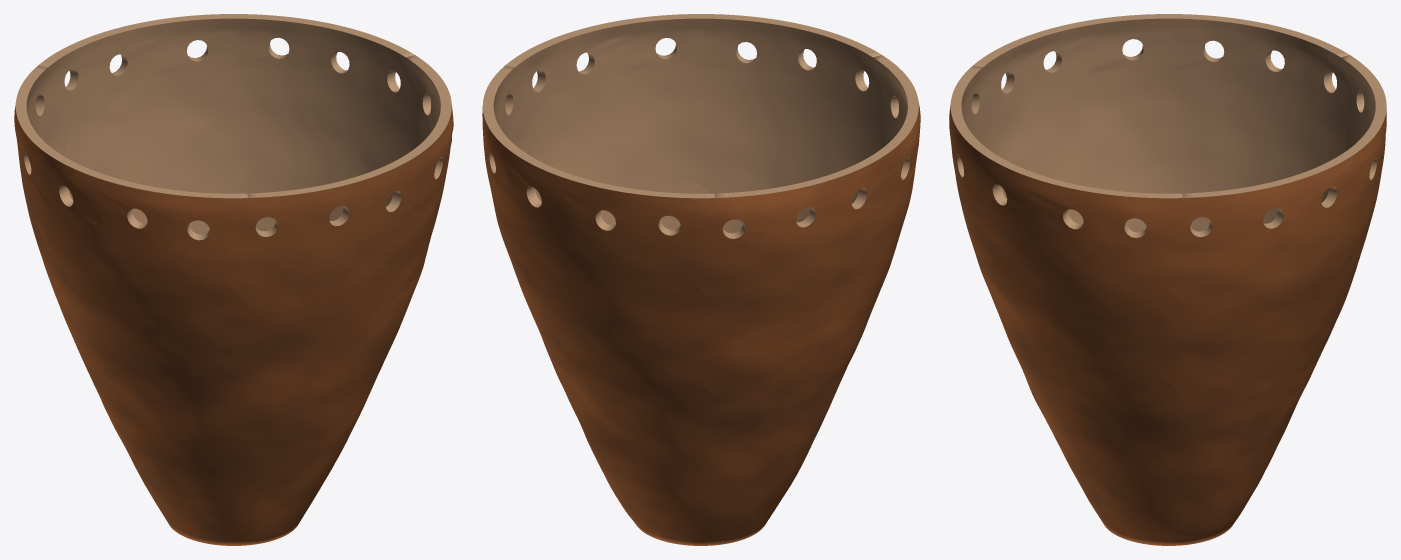
File: pottery.glb
3 views of the same model, side by side, from view 1: azimuth 30°, elevation 25°; view 2: azimuth 150°, elevation 25°; view 3: azimuth 270°, elevation 25° (orthographic).
Visible parts, largest first — view 1: Pottery_Piece_06, Pottery_Piece_05, Pottery_Piece_04, Pottery_Piece_01, Pottery_Piece_02, Pottery_Base, Pottery_Piece_03; view 2: Pottery_Piece_04, Pottery_Piece_06, Pottery_Piece_05, Pottery_Piece_03, Pottery_Piece_02, Pottery_Base, Pottery_Piece_01; view 3: Pottery_Piece_05, Pottery_Piece_04, Pottery_Piece_06, Pottery_Piece_03, Pottery_Piece_01, Pottery_Base, Pottery_Piece_02.
Part boxes in pixels (x1,y1,x2,y2): Pottery_Piece_06: (38,14,414,207); Pottery_Piece_05: (14,65,248,355); Pottery_Piece_04: (223,55,453,349); Pottery_Piece_01: (224,278,419,470); Pottery_Piece_02: (45,267,244,472); Pottery_Base: (120,434,347,545); Pottery_Piece_03: (132,177,343,234); Pottery_Piece_04: (505,14,881,210); Pottery_Piece_06: (482,65,715,349); Pottery_Piece_05: (690,55,920,352); Pottery_Piece_03: (519,279,711,477); Pottery_Piece_02: (691,282,883,477); Pottery_Base: (581,423,821,545); Pottery_Piece_01: (600,181,809,233); Pottery_Piece_05: (973,14,1349,208); Pottery_Piece_04: (949,65,1183,351); Pottery_Piece_06: (1158,55,1386,344); Pottery_Piece_03: (1159,283,1351,477); Pottery_Piece_01: (988,289,1179,466); Pottery_Base: (1053,427,1286,545); Pottery_Piece_02: (1068,181,1277,232).
Size of the model in its own units: 1.44 by 1.5 by 1.45.
Materials: 3 (1 with a texture image).
